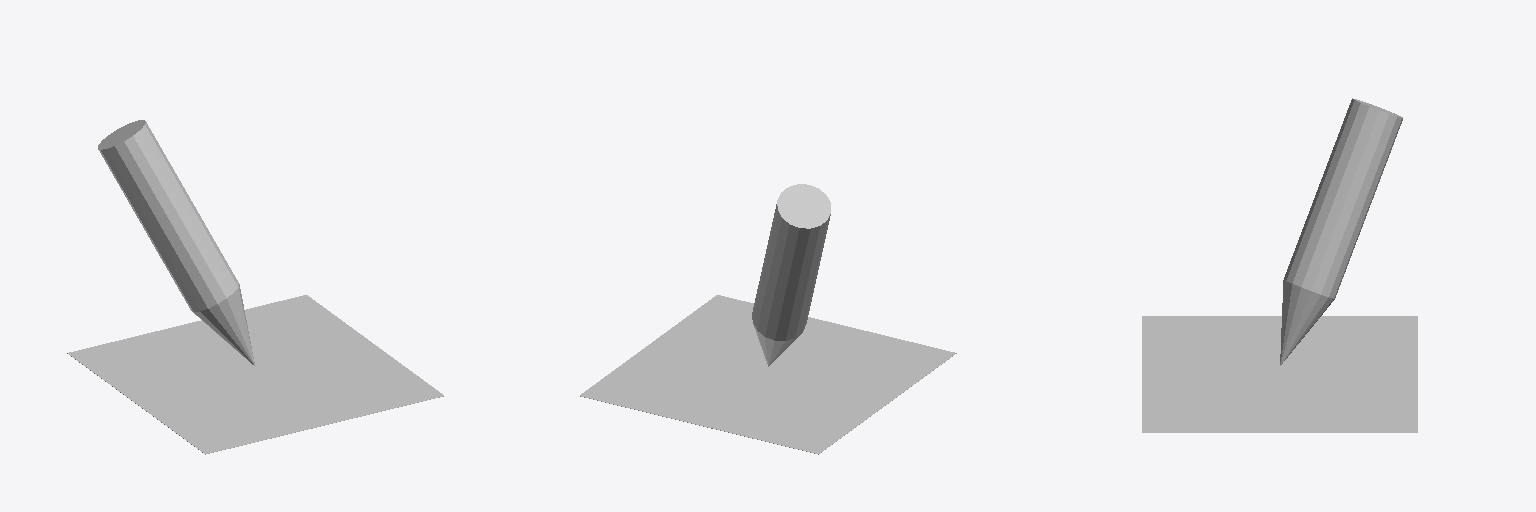
File: gizmo_edit.sgm.obj
The picture shows the model from 3 angles: view 1: azimuth 30°, elevation 25°; view 2: azimuth 150°, elevation 25°; view 3: azimuth 270°, elevation 25°; orthographic projection.
Parts seen in each view (by area): view 1: 0; view 2: 0; view 3: 0.
Boxes of the visible parts, box(x1,y1,x2,y2) form: 0: box(67, 120, 443, 454); 0: box(580, 184, 956, 454); 0: box(1142, 98, 1417, 432).
Size of the model in its own units: 0.15 by 0.142 by 0.15.